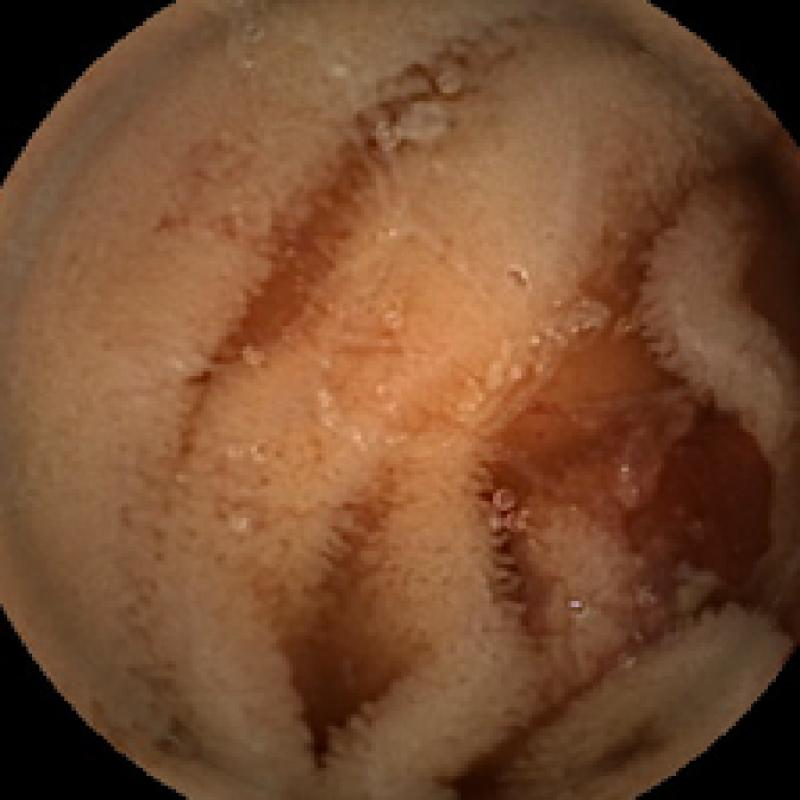bleeding: (639, 386, 786, 646)
